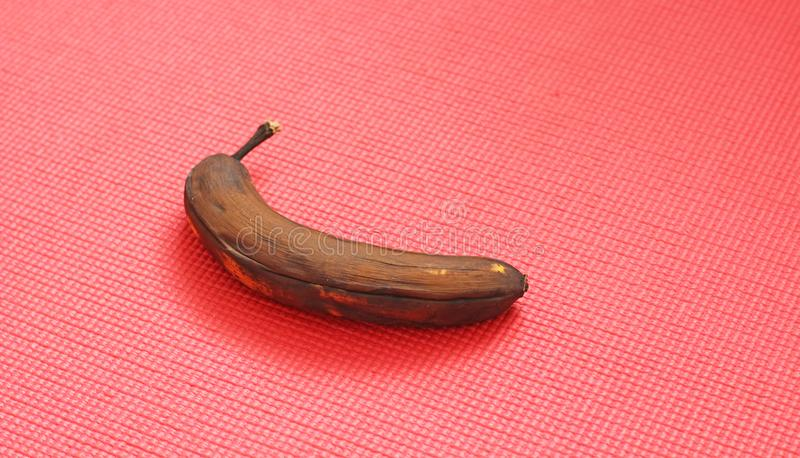looks_defective: (115, 92, 652, 429)
